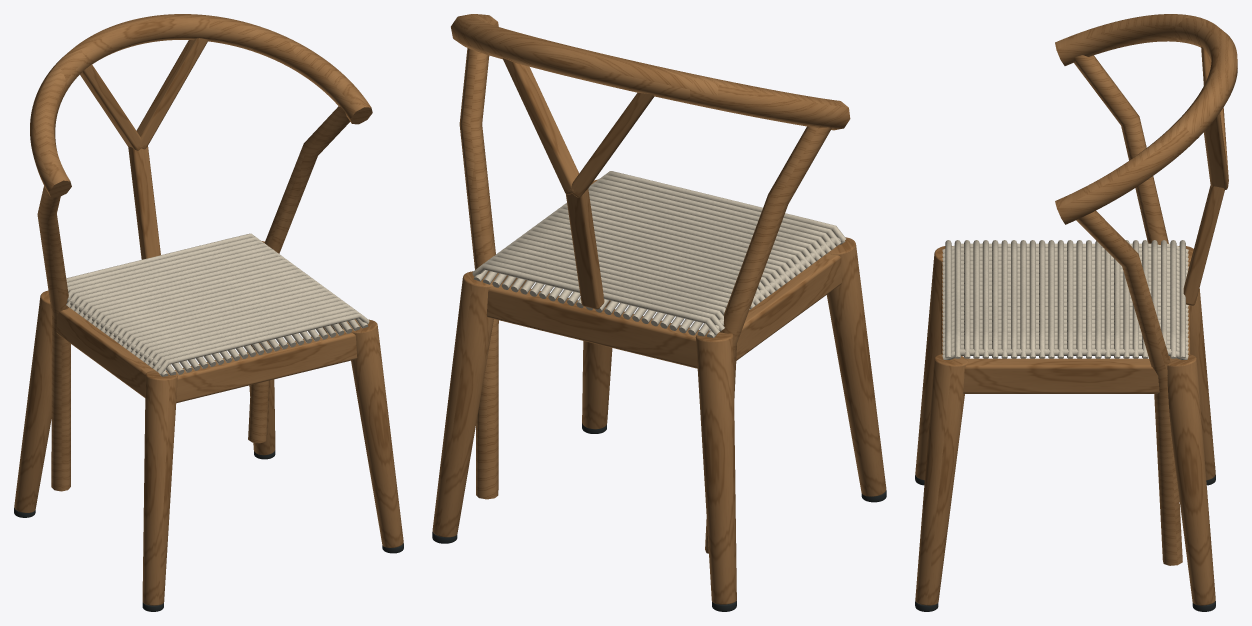
3 views of the same model, side by side, from view 1: azimuth 30°, elevation 25°; view 2: azimuth 150°, elevation 25°; view 3: azimuth 270°, elevation 25° (orthographic). The views are drawn at different scales.
Visible parts, largest first — view 1: Oak | horseshoe wishbone crest, Frame | tapered leg, Frame | tapered leg.002, Oak | continuous swept rear stile, Frame | cross apron, Frame | tapered leg.001, Oak | continuous swept rear stile.001, Frame | side apron, Oak | Y-back central stem, Oak | wishbone branch.001, Oak | wishbone branch, Natural cord | wishbone seat | weft (+26 smaller); view 2: Oak | horseshoe wishbone crest, Frame | tapered leg.001, Oak | continuous swept rear stile.001, Frame | tapered leg.003, Frame | tapered leg, Frame | cross apron.001, Oak | continuous swept rear stile, Frame | side apron, Oak | wishbone branch.001, Oak | Y-back central stem, Frame | tapered leg.002, Oak | wishbone branch (+26 smaller); view 3: Oak | horseshoe wishbone crest, Frame | tapered leg.002, Frame | tapered leg.003, Oak | continuous swept rear stile.001, Frame | side apron.001, Oak | continuous swept rear stile, Frame | tapered leg, Frame | tapered leg.001, Oak | Y-back central stem, Oak | wishbone branch.001, Natural cord | wishbone seat | warp.025, Natural cord | wishbone seat | weft (+37 smaller).
Boxes of the visible parts, <box> form: Oak | horseshoe wishbone crest: <box>30,14,372,197</box>; Frame | tapered leg: <box>142,370,177,605</box>; Frame | tapered leg.002: <box>349,319,403,547</box>; Oak | continuous swept rear stile: <box>37,186,70,491</box>; Frame | cross apron: <box>175,329,357,402</box>; Frame | tapered leg.001: <box>14,290,51,512</box>; Oak | continuous swept rear stile.001: <box>248,106,350,443</box>; Frame | side apron: <box>56,307,154,397</box>; Oak | Y-back central stem: <box>128,146,160,259</box>; Oak | wishbone branch.001: <box>136,38,208,149</box>; Oak | wishbone branch: <box>80,64,141,150</box>; Natural cord | wishbone seat | weft: <box>157,313,369,374</box>; Oak | horseshoe wishbone crest: <box>451,14,850,130</box>; Frame | tapered leg.001: <box>695,330,736,604</box>; Oak | continuous swept rear stile.001: <box>459,48,498,499</box>; Frame | tapered leg.003: <box>432,271,496,537</box>; Frame | tapered leg: <box>827,237,886,496</box>; Frame | cross apron.001: <box>486,282,699,368</box>; Oak | continuous swept rear stile: <box>705,126,831,553</box>; Frame | side apron: <box>736,253,841,360</box>; Oak | wishbone branch.001: <box>502,58,578,194</box>; Oak | Y-back central stem: <box>566,189,604,309</box>; Frame | tapered leg.002: <box>582,179,612,429</box>; Oak | wishbone branch: <box>569,92,654,197</box>; Oak | horseshoe wishbone crest: <box>1055,14,1237,224</box>; Frame | tapered leg.002: <box>915,354,968,605</box>; Frame | tapered leg.003: <box>1167,354,1215,605</box>; Oak | continuous swept rear stile.001: <box>1076,210,1182,565</box>; Frame | side apron.001: <box>963,358,1159,393</box>; Oak | continuous swept rear stile: <box>1074,55,1168,244</box>; Frame | tapered leg: <box>915,246,952,480</box>; Frame | tapered leg.001: <box>1179,246,1215,480</box>; Oak | Y-back central stem: <box>1183,185,1224,305</box>; Oak | wishbone branch.001: <box>1204,112,1228,189</box>; Natural cord | wishbone seat | warp.025: <box>942,349,1188,359</box>; Natural cord | wishbone seat | weft: <box>945,240,951,358</box>.
Size of the model in its own units: 0.692 by 0.9325 by 0.5535.
Materials: 3 (2 with a texture image).
